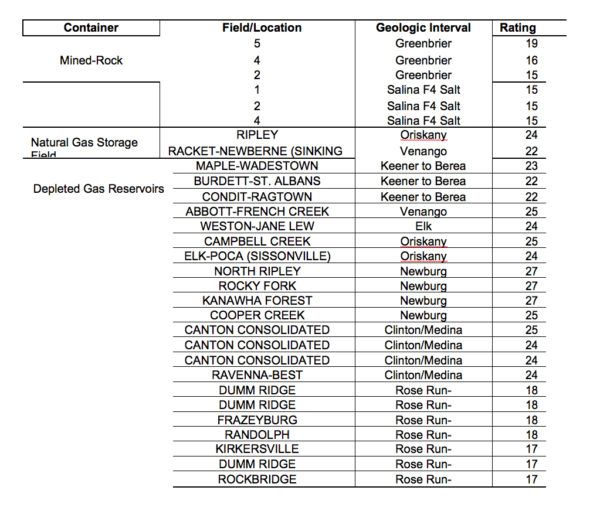fracking table: (14, 15, 568, 492)
